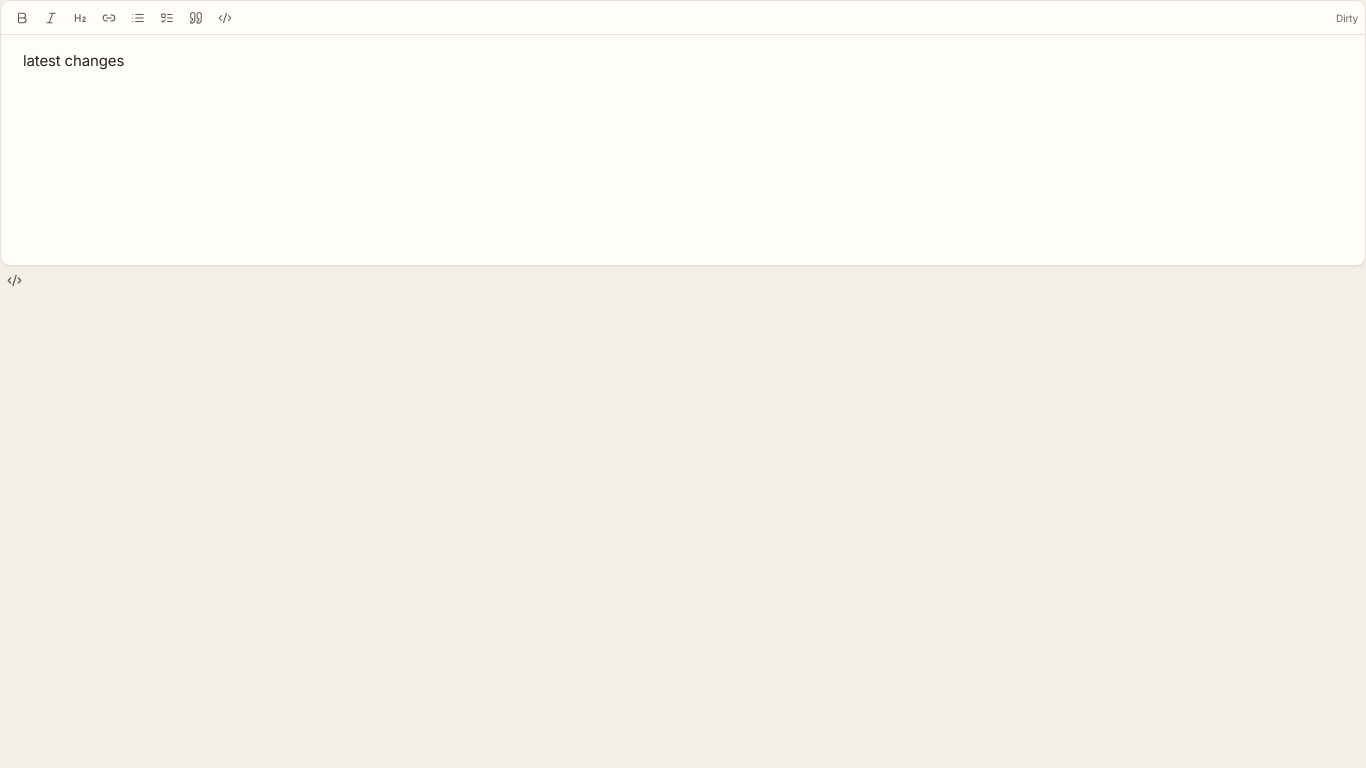
Test: keeps the task and its draft open when saving before source editing fails
This screenshot has width=1366, height=768.
Click the button named "Edit source" at point(14, 280), box [0,266,28,294]
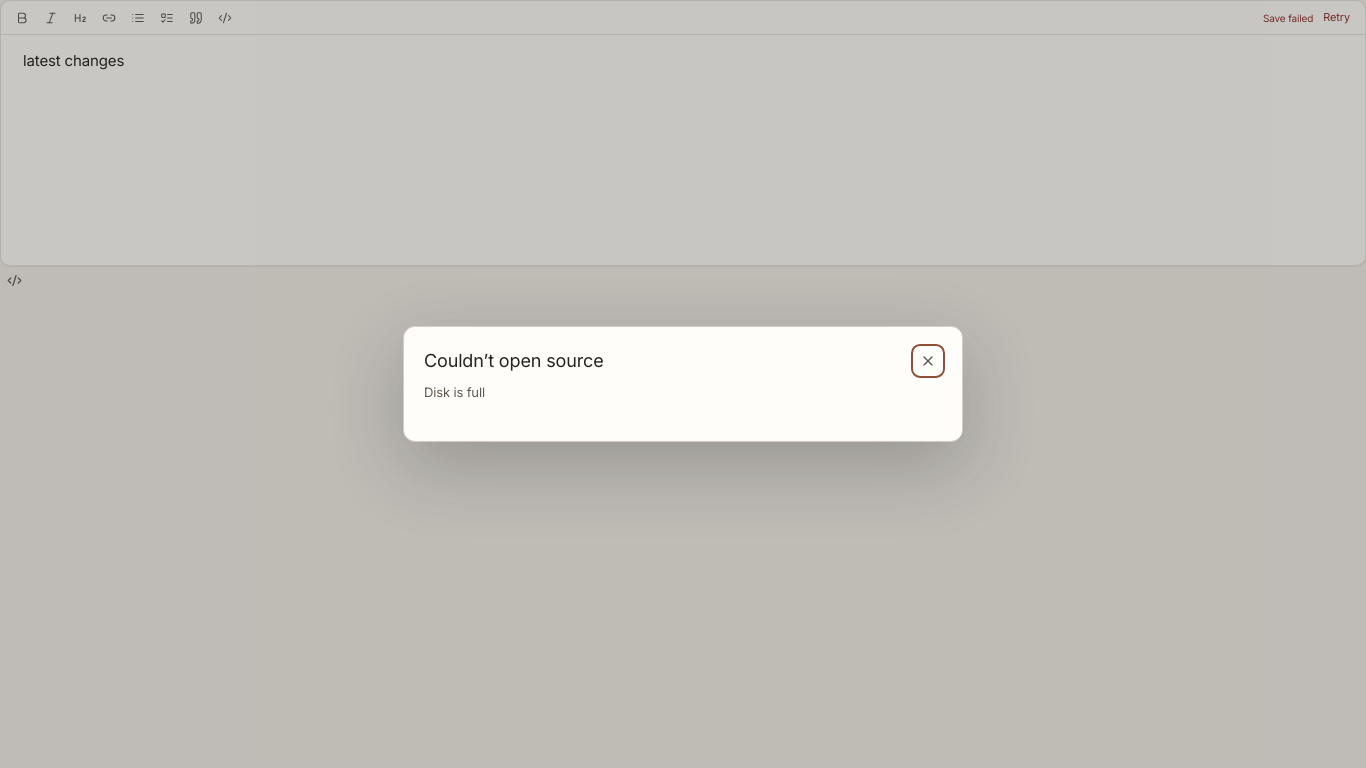
Expected: the field named "Issue description" reads "latest changes", [23,51,124,70]
Result: the dialog "Couldn’t open source" shows "Disk is full" at [424,384,485,400]
